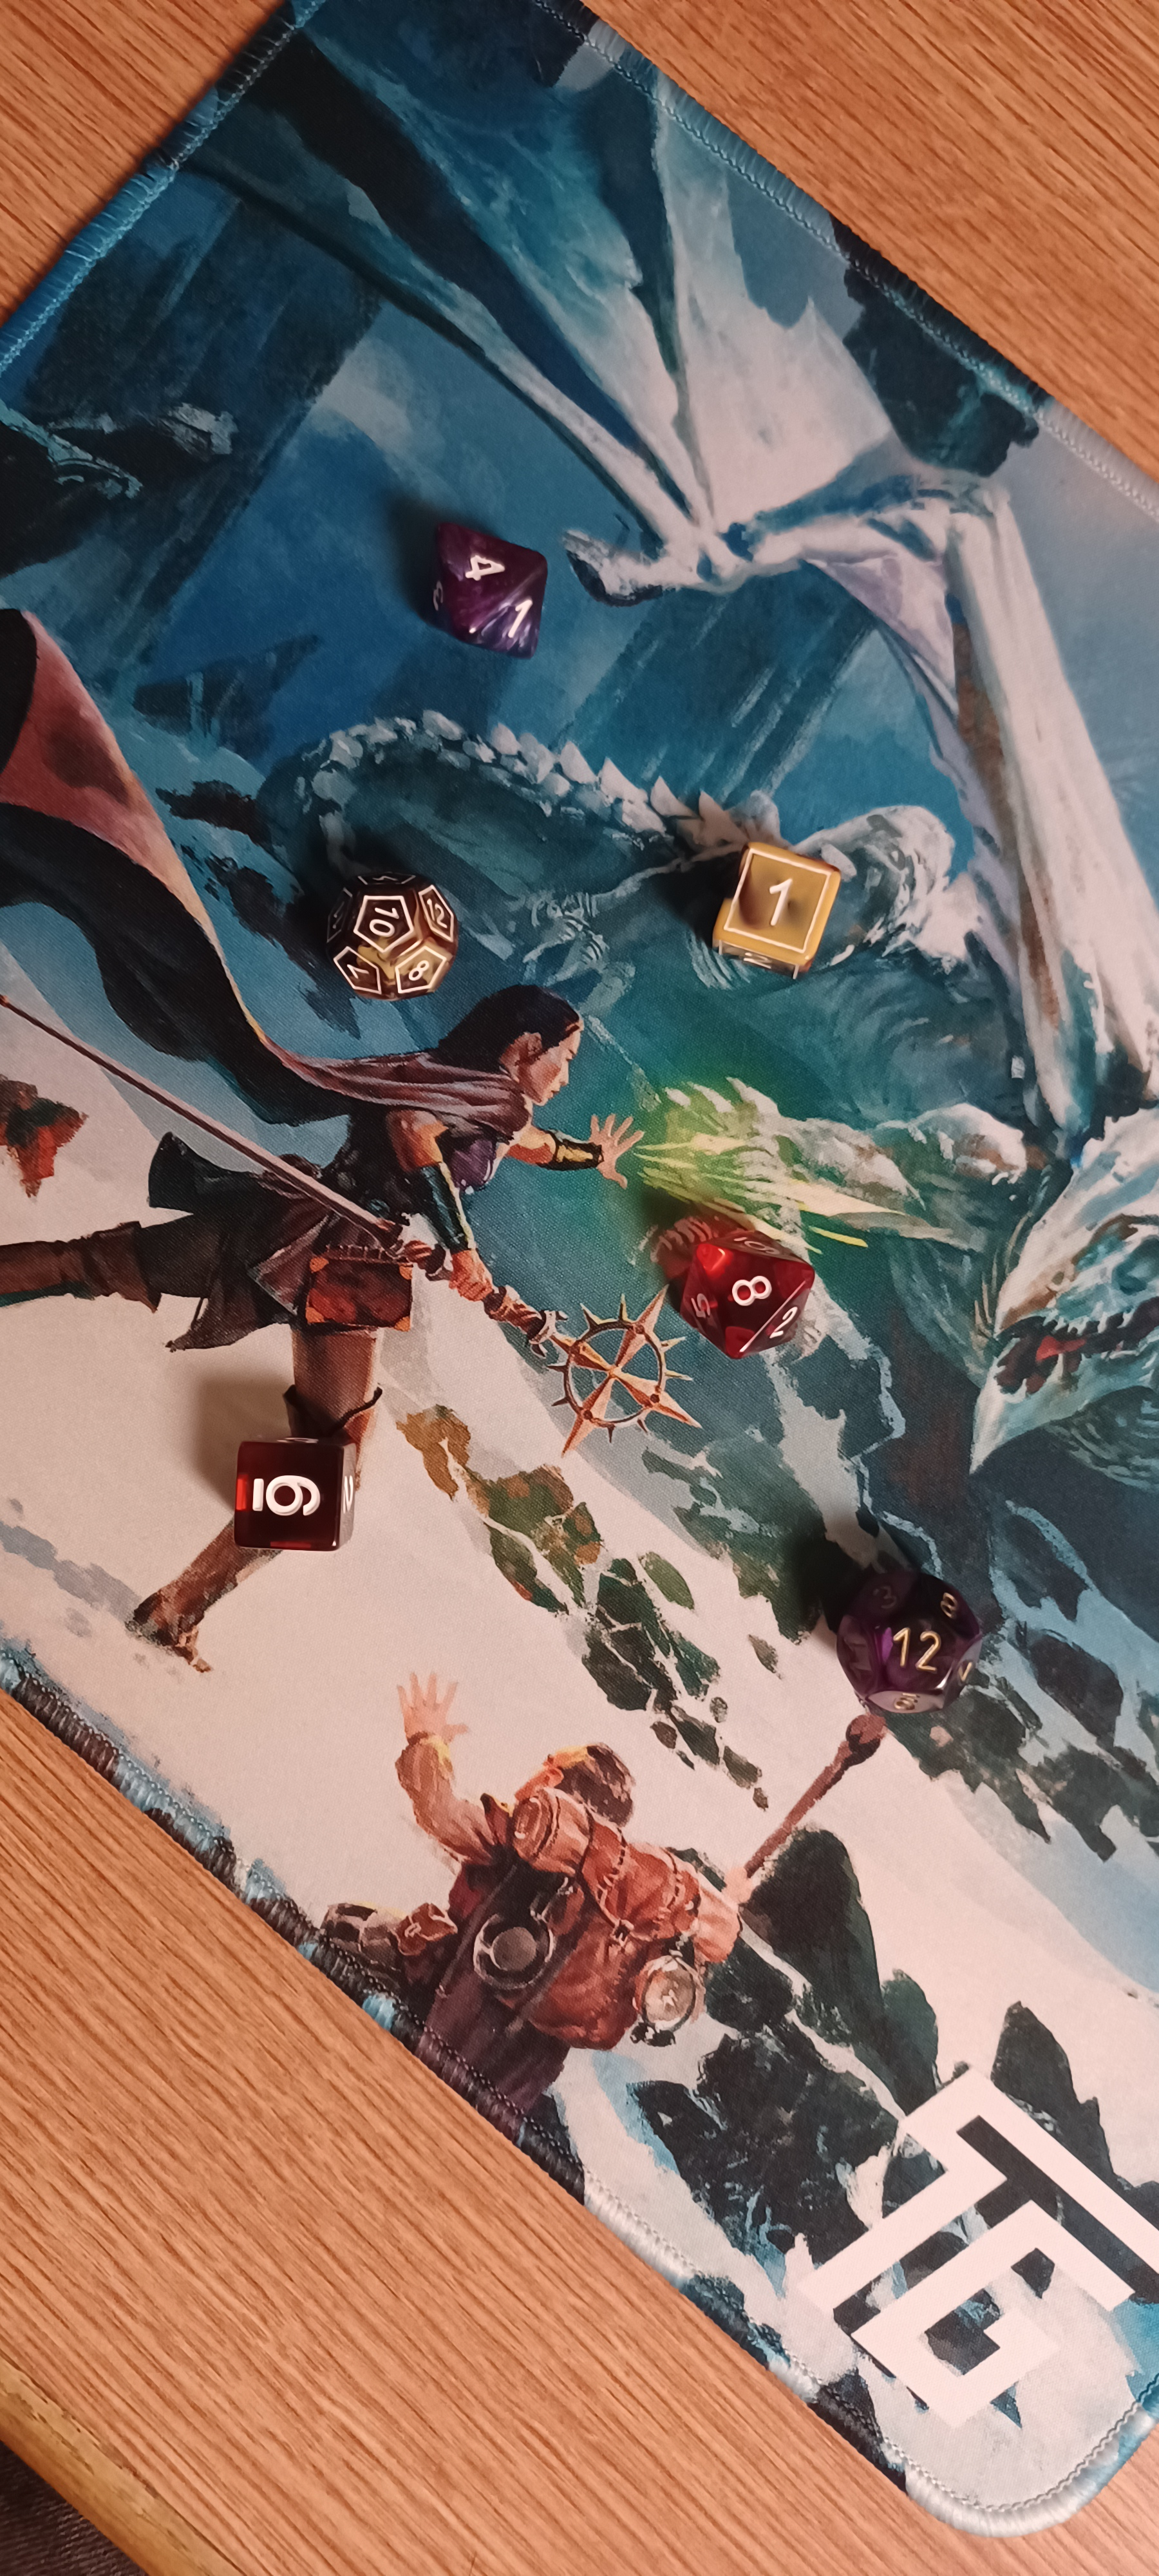eight: (629, 1178, 867, 1393)
four: (392, 495, 591, 688)
one: (667, 805, 883, 1027)
six: (197, 1408, 396, 1574)
ten: (284, 836, 502, 1019)
twelve: (785, 1539, 1039, 1771)
